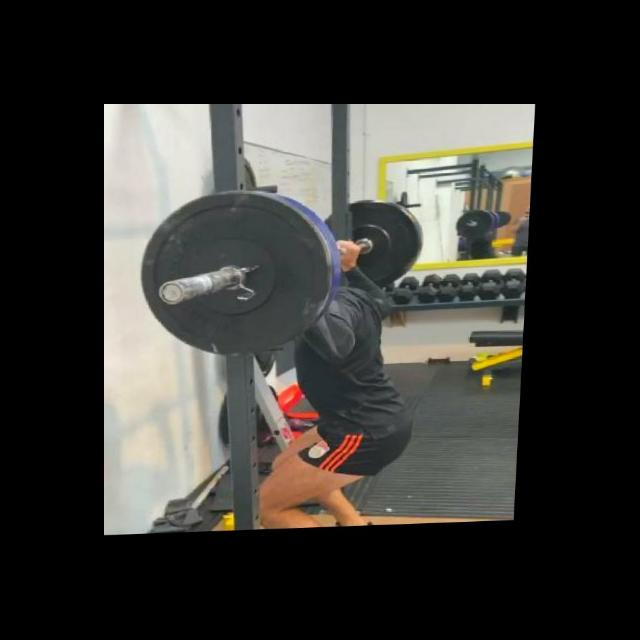barbell: (137, 188, 336, 362)
